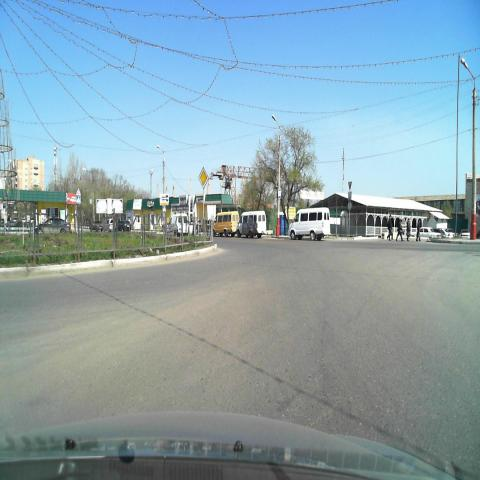2_1: (198, 166, 210, 189)
5_16: (278, 188, 283, 200)
